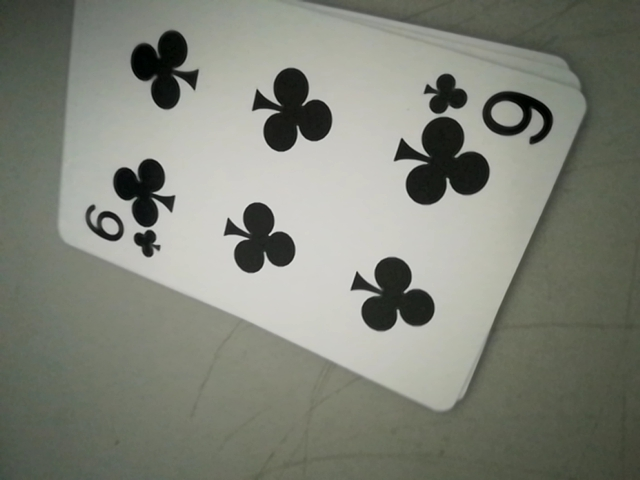mh 6: (416, 71, 557, 136), (77, 204, 166, 264)
